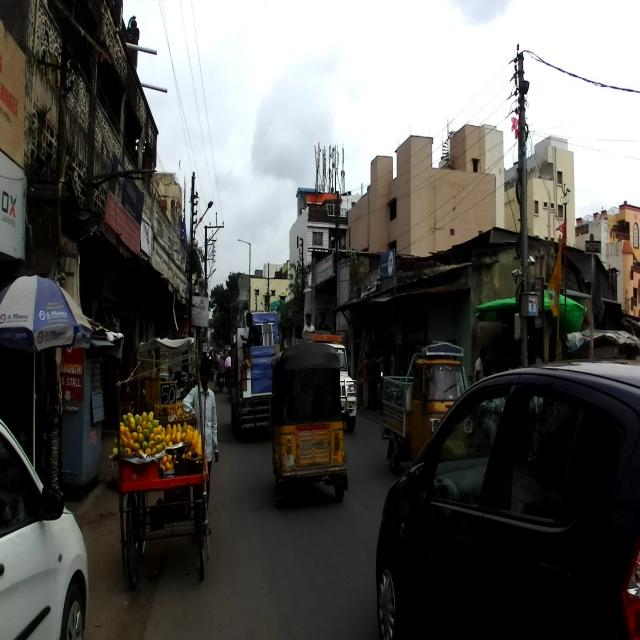Car_Maruti-Suzuki: (372, 357, 639, 639)
autorickshaw: (269, 341, 349, 506), (380, 338, 470, 476)
